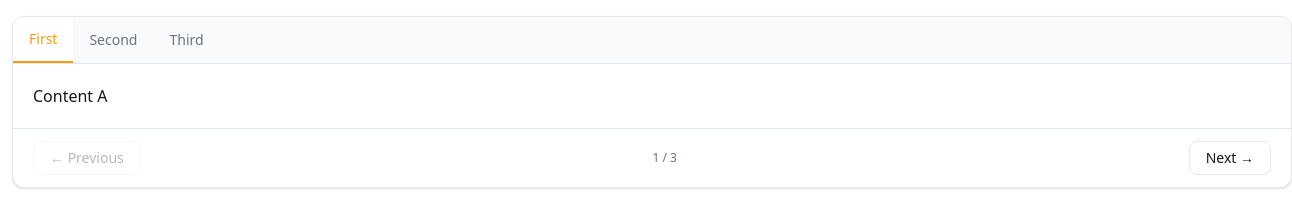
TC-19.1.5 Next button disabled on last step
# advance to last step
Click the button "Next →". click: {"x": 1230, "y": 158}
box: [1189,141,1271,175]
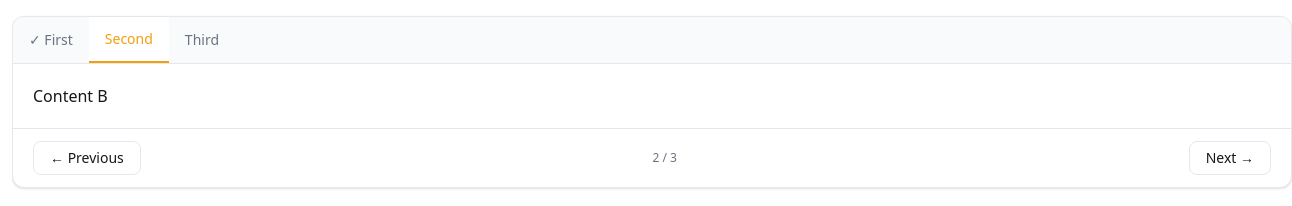
Click the button "Next →". click: {"x": 1230, "y": 158}
box: [1189,141,1271,175]
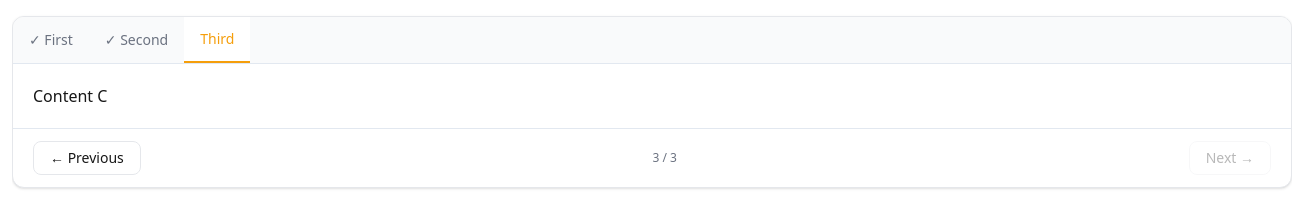
Now the button "Next →" is disabled, box [1189,141,1271,175]
